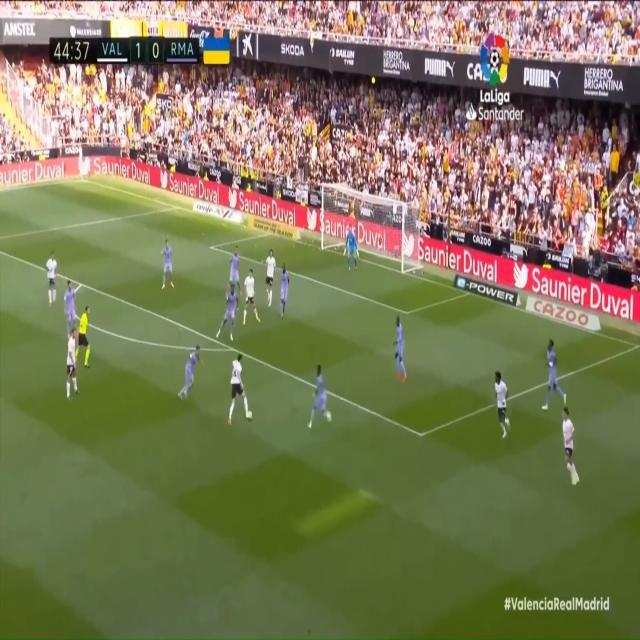ball: (245, 405, 254, 422)
goalkeeper: (339, 222, 365, 282)
player: (481, 369, 517, 453), (538, 325, 569, 421), (556, 406, 584, 509), (175, 341, 211, 419), (383, 302, 412, 397), (303, 358, 336, 434), (61, 271, 83, 346), (229, 351, 251, 426), (237, 269, 264, 329), (158, 236, 180, 304), (265, 242, 283, 317), (216, 287, 238, 348), (65, 328, 83, 401), (43, 248, 63, 310), (228, 236, 244, 303), (278, 256, 292, 330)
referee: (76, 298, 99, 369)
